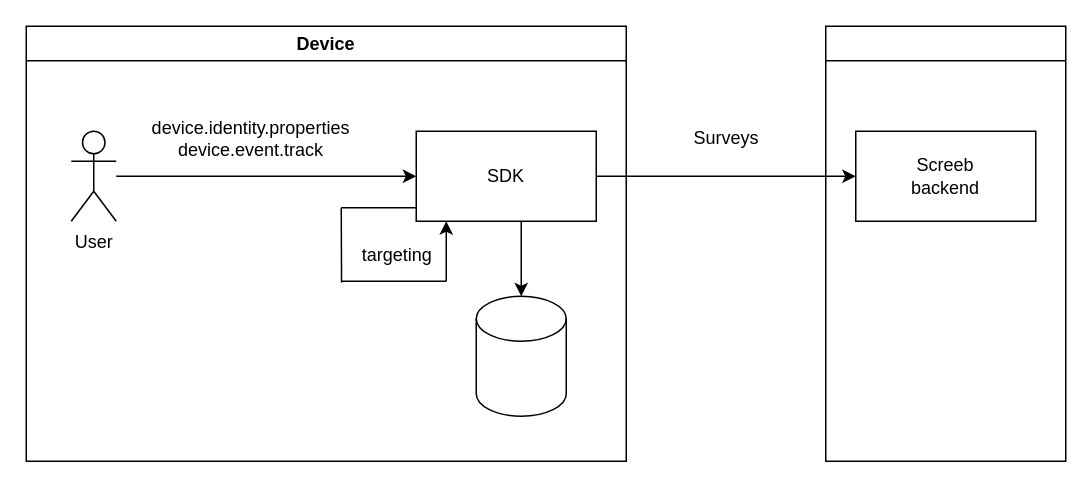
Image size: 1092x488. Some labels were removed from this diagram. Here are the shapes that lost their labels. From the top down, the centre of each, then its label:
At pixel 945 243: "Screeb infrastructure".
At pixel 520 355: "Local Storage".
